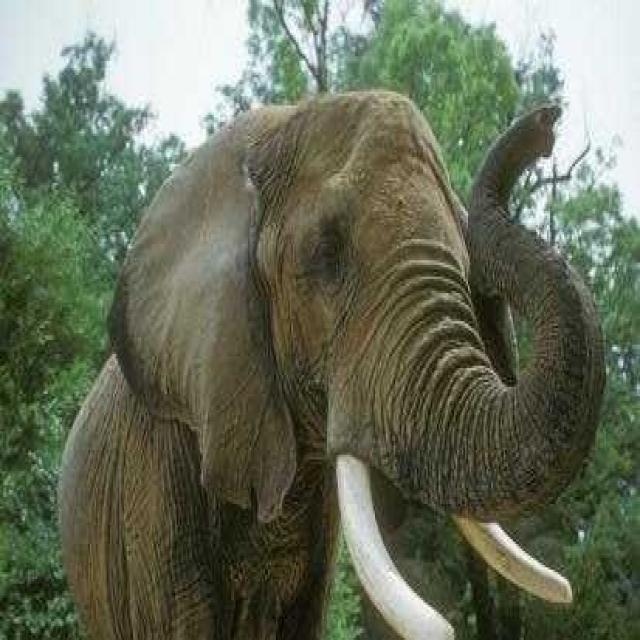Elephant: (56, 87, 606, 638)
